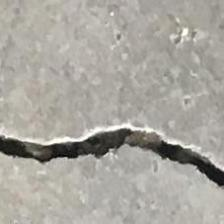Crack: (0, 129, 224, 194)
